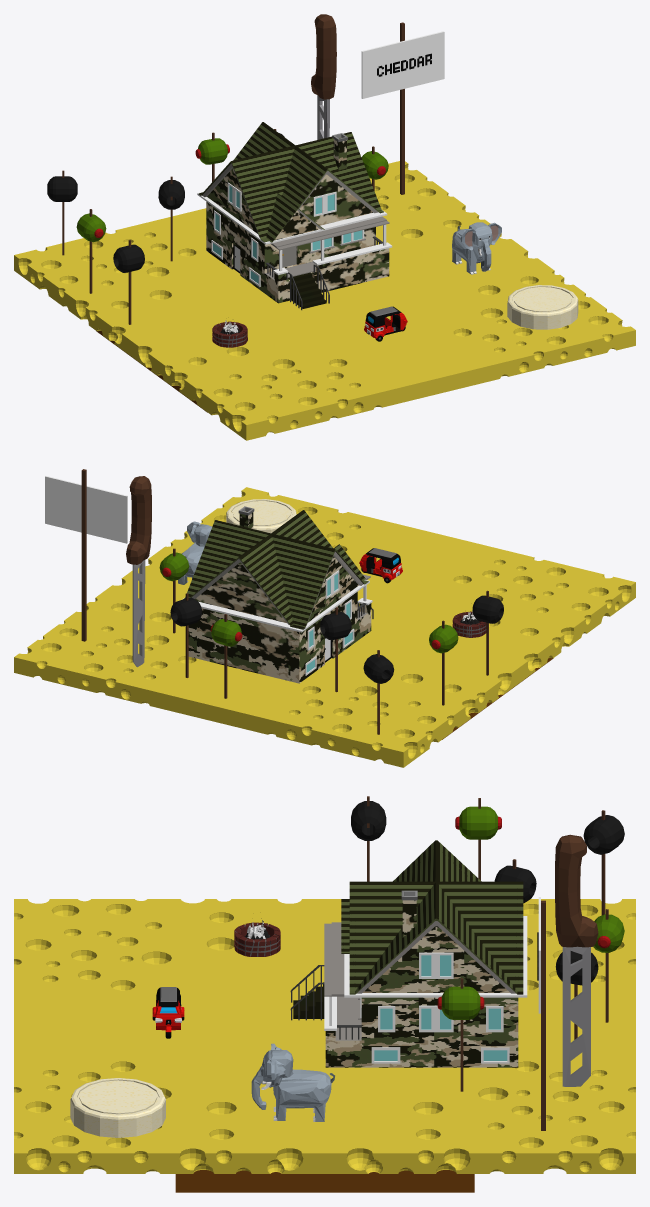
3 renders of one model, top to bottom at view 1: azimuth 30°, elevation 25°; view 2: azimuth 150°, elevation 25°; view 3: azimuth 270°, elevation 25°, orthographic. The views are drawn at different scales.
Visible parts, largest first — view 1: Cube.022, Cube.001, Cube.023, Cylinder.016, Cube.024, ANIMAL_ELEFANTE, VEHICLES_TUC_TUC, Sphere.017, Sphere.016, Sphere.018, OBJRANDOM_CAMPFIRE, Sphere.020 (+2 smaller); view 2: Cube.022, Cube.001, Cube.023, Cube.024, Cylinder.016, VEHICLES_TUC_TUC, Sphere.021, ANIMAL_ELEFANTE, Sphere.022, Sphere.020, Sphere.017, Sphere.016 (+3 smaller); view 3: Cube.022, Cube.001, Cube.024, UNDERGROUND_ART_PIECE_VAN_GOGH, Cylinder.016, ANIMAL_ELEFANTE, Sphere.019, Sphere.016, Cube.023, OBJRANDOM_CAMPFIRE, Sphere.018, Sphere.017 (+4 smaller).
Part boxes in pixels (<box>): Cube.022: <box>14,161,635,440</box>; Cube.001: <box>197,122,392,310</box>; Cube.023: <box>361,22,444,194</box>; Cylinder.016: <box>507,285,578,329</box>; Cube.024: <box>311,14,336,139</box>; ANIMAL_ELEFANTE: <box>452,222,501,274</box>; VEHICLES_TUC_TUC: <box>364,306,407,341</box>; Sphere.017: <box>113,240,144,324</box>; Sphere.016: <box>47,170,77,255</box>; Sphere.018: <box>76,209,106,293</box>; OBJRANDOM_CAMPFIRE: <box>212,320,247,347</box>; Sphere.020: <box>158,176,184,261</box>; Cube.022: <box>14,487,635,767</box>; Cube.001: <box>182,506,373,683</box>; Cube.023: <box>45,469,127,641</box>; Cube.024: <box>126,476,151,667</box>; Cylinder.016: <box>226,499,296,533</box>; VEHICLES_TUC_TUC: <box>359,548,402,583</box>; Sphere.021: <box>170,593,202,677</box>; ANIMAL_ELEFANTE: <box>178,521,212,584</box>; Sphere.022: <box>210,614,242,698</box>; Sphere.020: <box>320,607,351,692</box>; Sphere.017: <box>472,590,503,675</box>; Sphere.016: <box>363,650,394,734</box>; Cube.022: <box>14,899,635,1173</box>; Cube.001: <box>290,840,527,1067</box>; Cube.024: <box>555,834,598,1086</box>; UNDERGROUND_ART_PIECE_VAN_GOGH: <box>175,1170,474,1192</box>; Cylinder.016: <box>70,1078,165,1137</box>; ANIMAL_ELEFANTE: <box>251,1043,334,1121</box>; Sphere.019: <box>437,978,484,1091</box>; Sphere.016: <box>583,810,624,915</box>; Cube.023: <box>537,897,545,1130</box>; OBJRANDOM_CAMPFIRE: <box>234,918,280,956</box>; Sphere.018: <box>455,798,501,880</box>; Sphere.017: <box>351,796,386,881</box>.
Size of the model in its own units: 3917 by 2132 by 4000.
39 materials, 6 textured.
